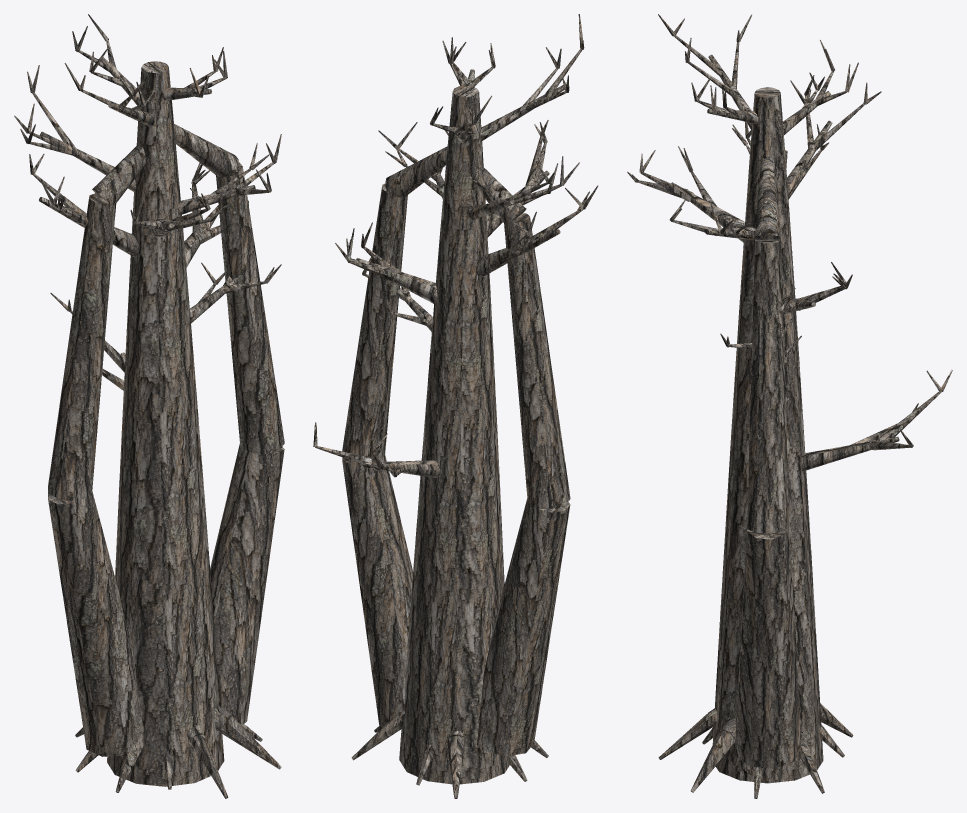
Rendered from root-arch-v01.glb.
3 views of the same model, side by side, from view 1: azimuth 30°, elevation 25°; view 2: azimuth 150°, elevation 25°; view 3: azimuth 270°, elevation 25° (orthographic). The views are drawn at different scales.
Visible parts, largest first — view 1: dead-tree-arch; view 2: dead-tree-arch; view 3: dead-tree-arch.
Boxes of the visible parts, x1=… form: dead-tree-arch: x1=14, y1=14, x2=284, y2=798; dead-tree-arch: x1=313, y1=14, x2=598, y2=798; dead-tree-arch: x1=627, y1=14, x2=952, y2=798.
Bounding box in the file's own units: 2.87 × 8.19 × 3.38.
Materials: 1 (1 with a texture image).
